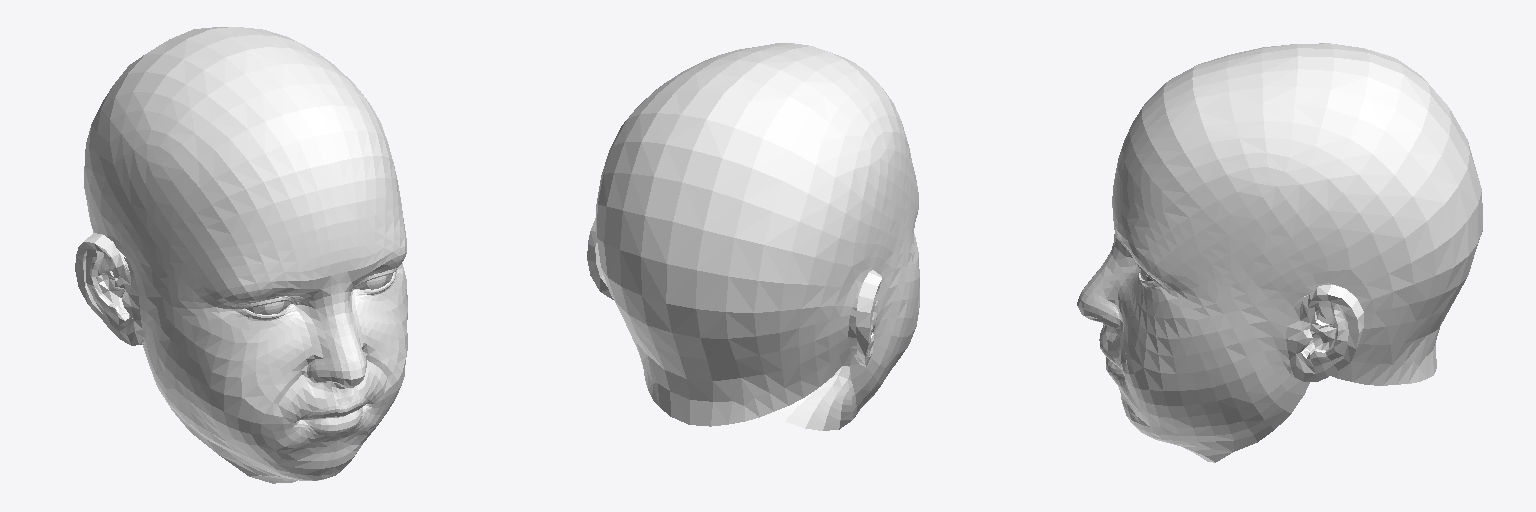
Rendered from Fat.obj.
3 renders of one model, left to right at view 1: azimuth 30°, elevation 25°; view 2: azimuth 150°, elevation 25°; view 3: azimuth 270°, elevation 25°, orthographic.
Parts seen in each view (by area): view 1: Genesis8Female; view 2: Genesis8Female; view 3: Genesis8Female.
Boxes of the visible parts, box(x1,y1,x2,y2) form: Genesis8Female: box(75, 27, 407, 483); Genesis8Female: box(587, 43, 919, 430); Genesis8Female: box(1077, 43, 1482, 462).
Size of the model in its own units: 18.3 by 24.62 by 22.73.